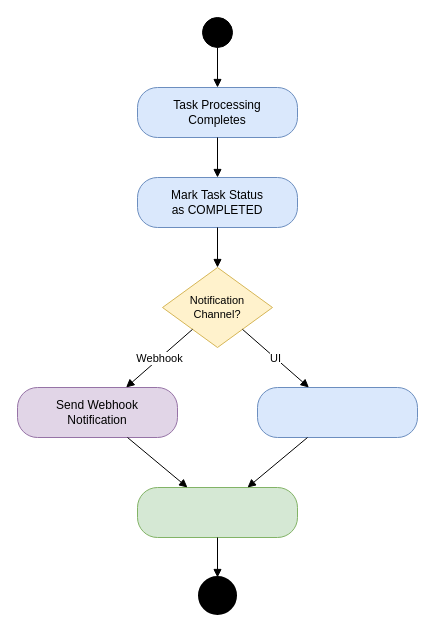
Image size: 435x632. Some labels were removed from this diagram. The shapes that lost their labels are listed below. From the top down, each one's box as (x1, y1, x2, y2) in pixels, then its label:
(256, 386, 418, 438): Push UI Dashboard Notification
(136, 486, 298, 538): User Receives Completion Alert
